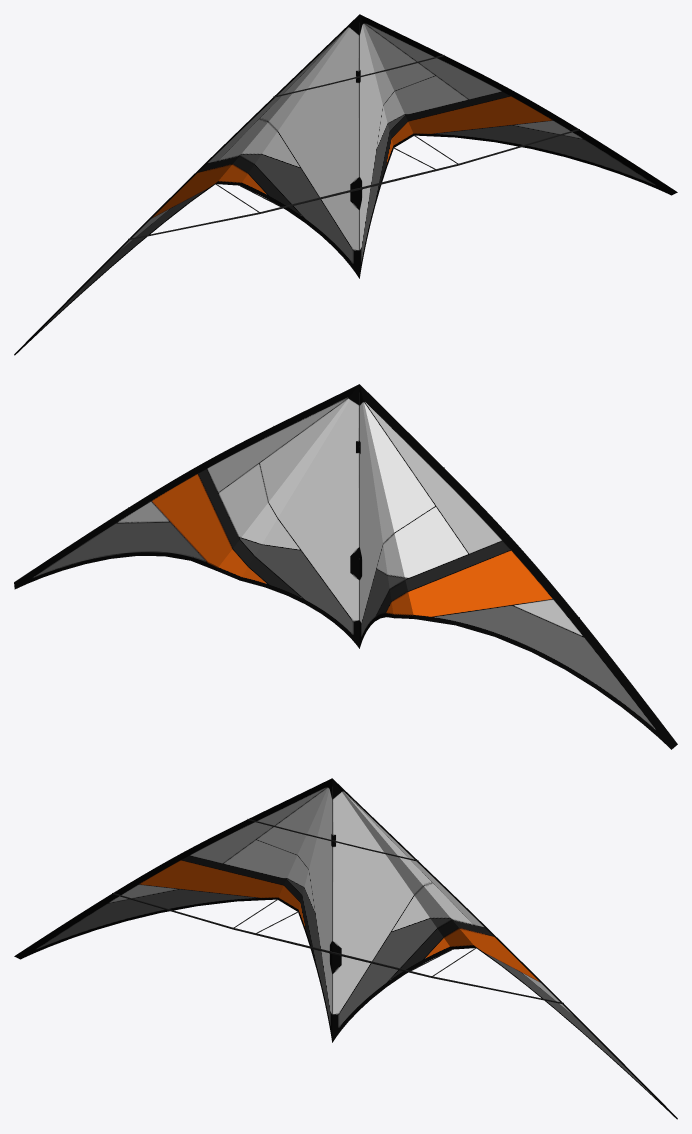
Rendered from EOL-LW-2015.obj.
3 views of the same model, one above another, from view 1: azimuth 30°, elevation 25°; view 2: azimuth 150°, elevation 25°; view 3: azimuth 330°, elevation 25° (orthographic).
Size of the model in its own units: 2240 by 882 by 262.
2 materials, 1 textured.
